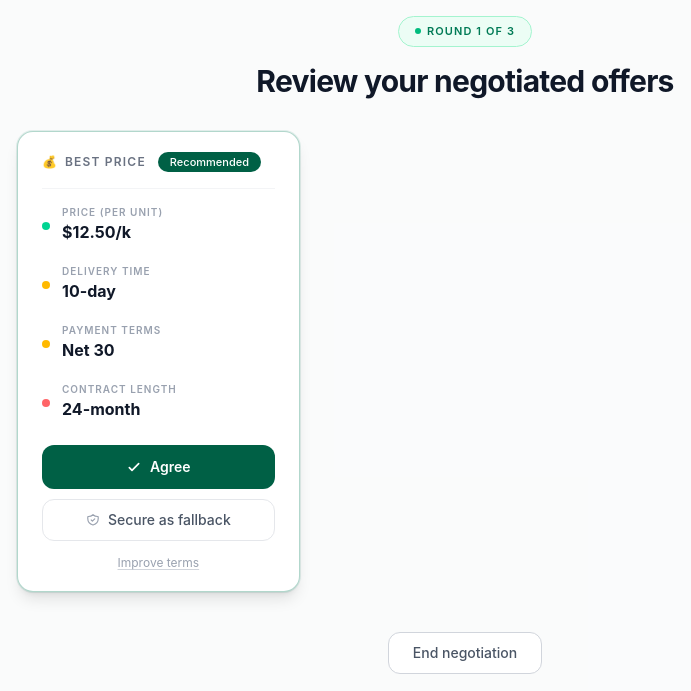
Test: App — no-deal phase › D4: no-deal phase shows "Negotiation ended"
This screenshot has width=691, height=691.
Click the button "End negotiation".
click(465, 653)  # box [388,632,542,674]
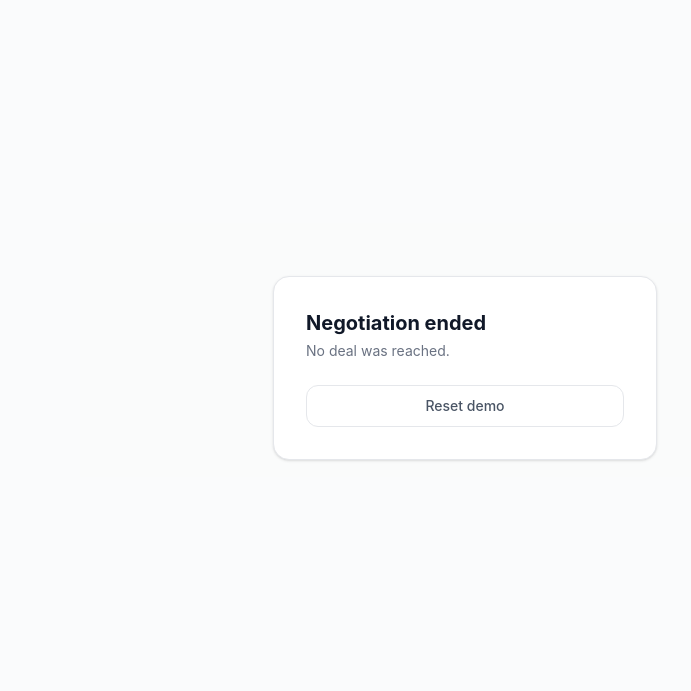
Expected: the heading "Negotiation ended" is shown, [306,311,486,335]
